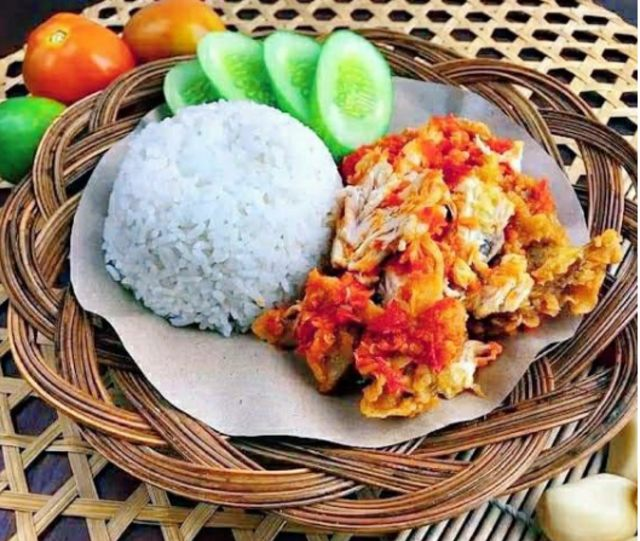ayam_geprek: (340, 131, 603, 415)
